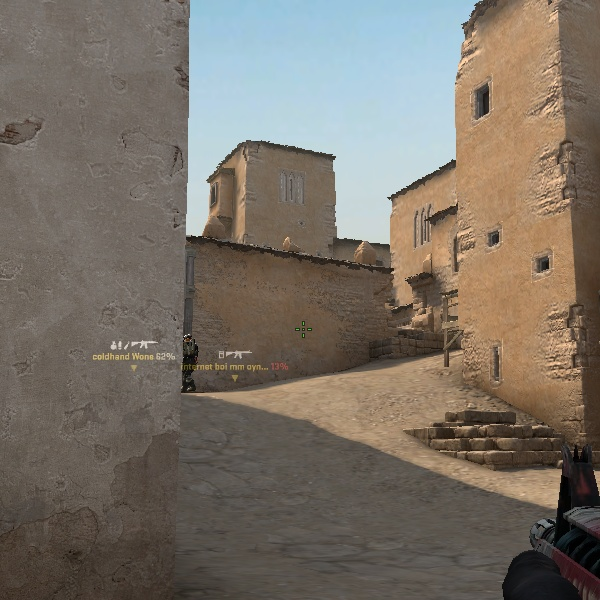ct_body: (176, 331, 204, 392)
ct_head: (181, 331, 195, 347)
